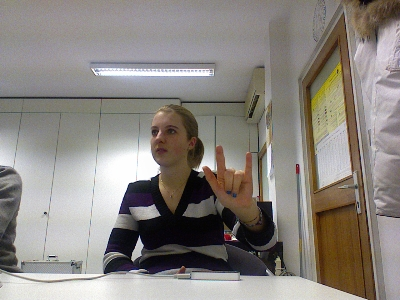我爱你: (201, 144, 253, 209)
